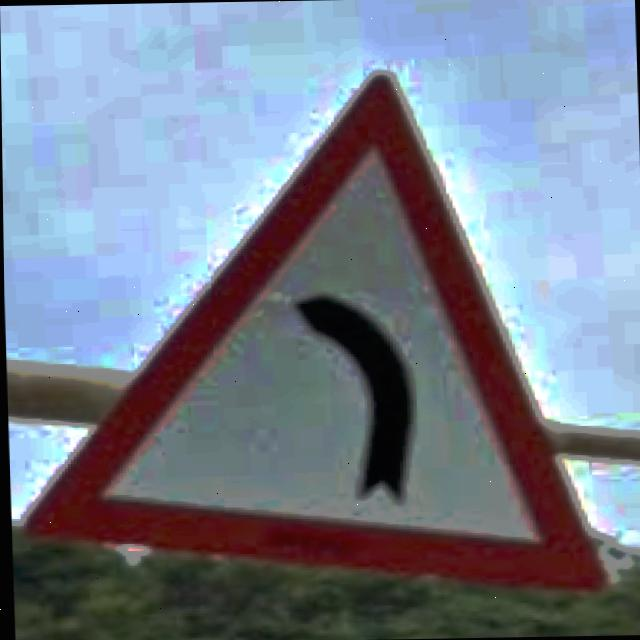leftbend: (19, 75, 606, 596)
